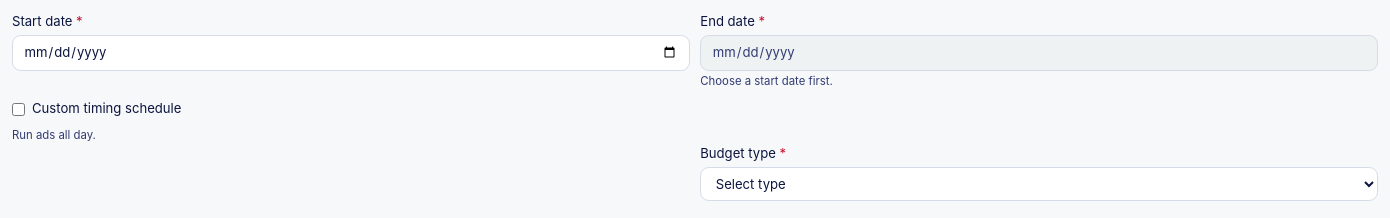
Test: MetaScheduleFields — dates › keeps the end disabled until a start is chosen, then after it
The width and height of the screenshot is (1390, 218).
Expected: the date field labelled "End date * Choose a start date first." is disabled, [700,35,1378,71]
Type "2099-10-02" into the date field labelled "Start date *" at (351, 53), box [12,35,690,71]
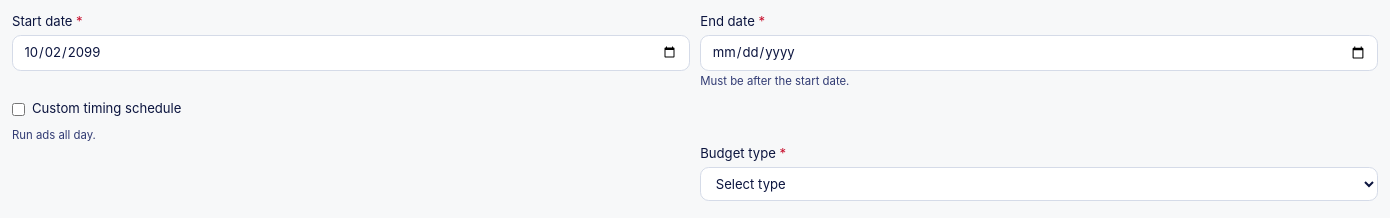
Now the date field labelled "End date * Must be after the start date." is enabled, box [700,35,1378,71]
